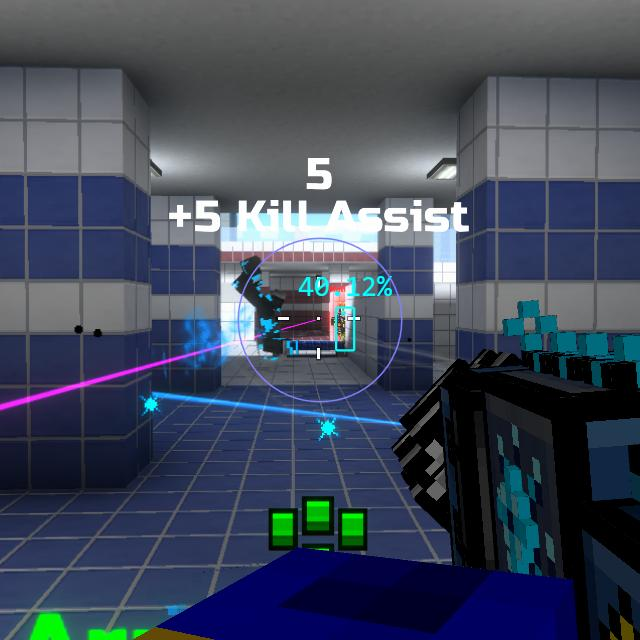Enemy: (331, 305, 346, 341)
